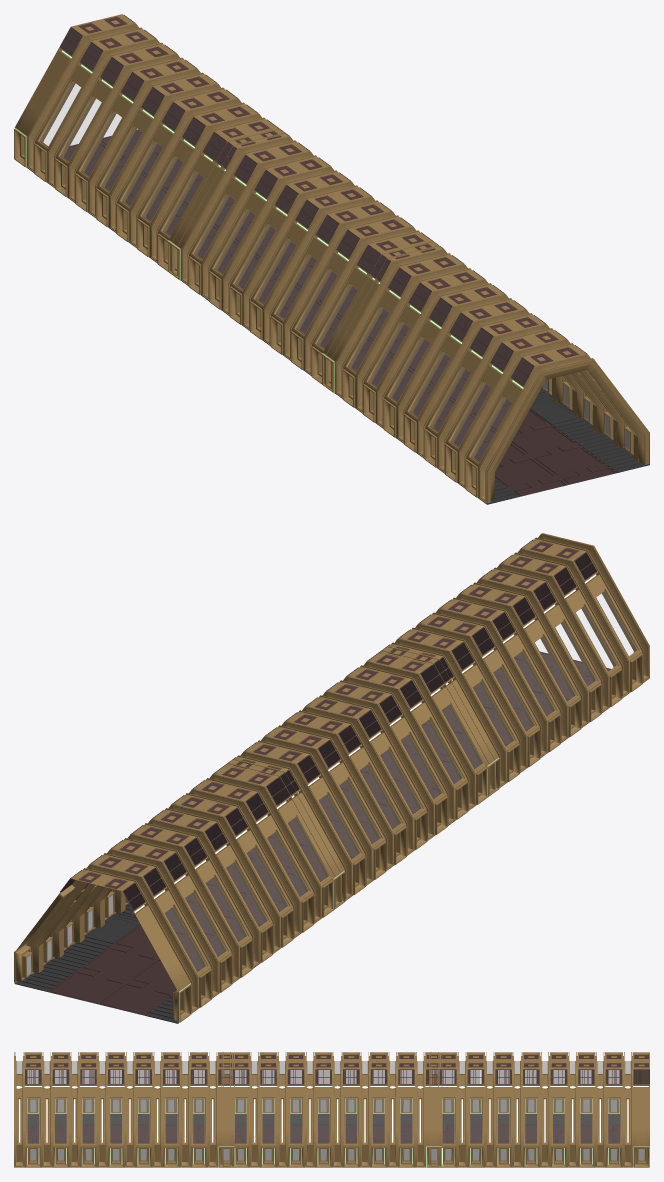
File: TUNNEL.fbx
3 views of the same model, one above another, from view 1: azimuth 30°, elevation 25°; view 2: azimuth 150°, elevation 25°; view 3: azimuth 270°, elevation 25° (orthographic). The views are drawn at different scales.
Parts seen in each view (by area): view 1: Tunnel_2, Tunnel_4, Tunnel_3, Floor, Floor_9, Floor_6, Ventilation_8, Ventilation_8_3, Ventilation_8_2; view 2: Tunnel_4, Tunnel_2, Tunnel_3, Floor_9, Floor, Floor_6, Floor_8, Ventilation_8_3, Ventilation_8, Ventilation_8_2; view 3: Tunnel_2, Tunnel_4, Tunnel_3, Floor, Ventilation_8_3, Ventilation_8, Ventilation_8_2, Floor_6, Floor_9, Floor_8, Floor_5.
Boxes of the visible parts, x1,y1,x2,y2 form: Tunnel_2: (322, 239, 649, 504); Tunnel_4: (14, 14, 285, 276); Tunnel_3: (168, 127, 439, 388); Floor: (335, 355, 649, 504); Floor_9: (64, 129, 294, 269); Floor_6: (218, 242, 449, 382); Ventilation_8: (368, 240, 586, 386); Ventilation_8_3: (60, 15, 278, 160); Ventilation_8_2: (214, 127, 432, 273); Tunnel_4: (14, 759, 341, 1023); Tunnel_2: (342, 533, 649, 796); Tunnel_3: (187, 646, 495, 909); Floor_9: (48, 877, 303, 1015); Floor: (347, 648, 645, 785); Floor_6: (211, 764, 457, 898); Floor_8: (15, 874, 316, 1023); Ventilation_8_3: (60, 765, 288, 910); Ventilation_8: (379, 539, 596, 684); Ventilation_8_2: (224, 652, 442, 796); Tunnel_2: (14, 1052, 234, 1167); Tunnel_4: (429, 1052, 649, 1167); Tunnel_3: (221, 1052, 442, 1167); Floor: (27, 1114, 204, 1167); Ventilation_8_3: (440, 1069, 649, 1084); Ventilation_8: (25, 1069, 234, 1084); Ventilation_8_2: (232, 1069, 441, 1084); Floor_6: (235, 1125, 412, 1143); Floor_9: (442, 1125, 619, 1143); Floor_8: (442, 1114, 626, 1167); Floor_5: (235, 1114, 412, 1167).
Bounding box in the file's own units: 499 × 344 × 2451.
